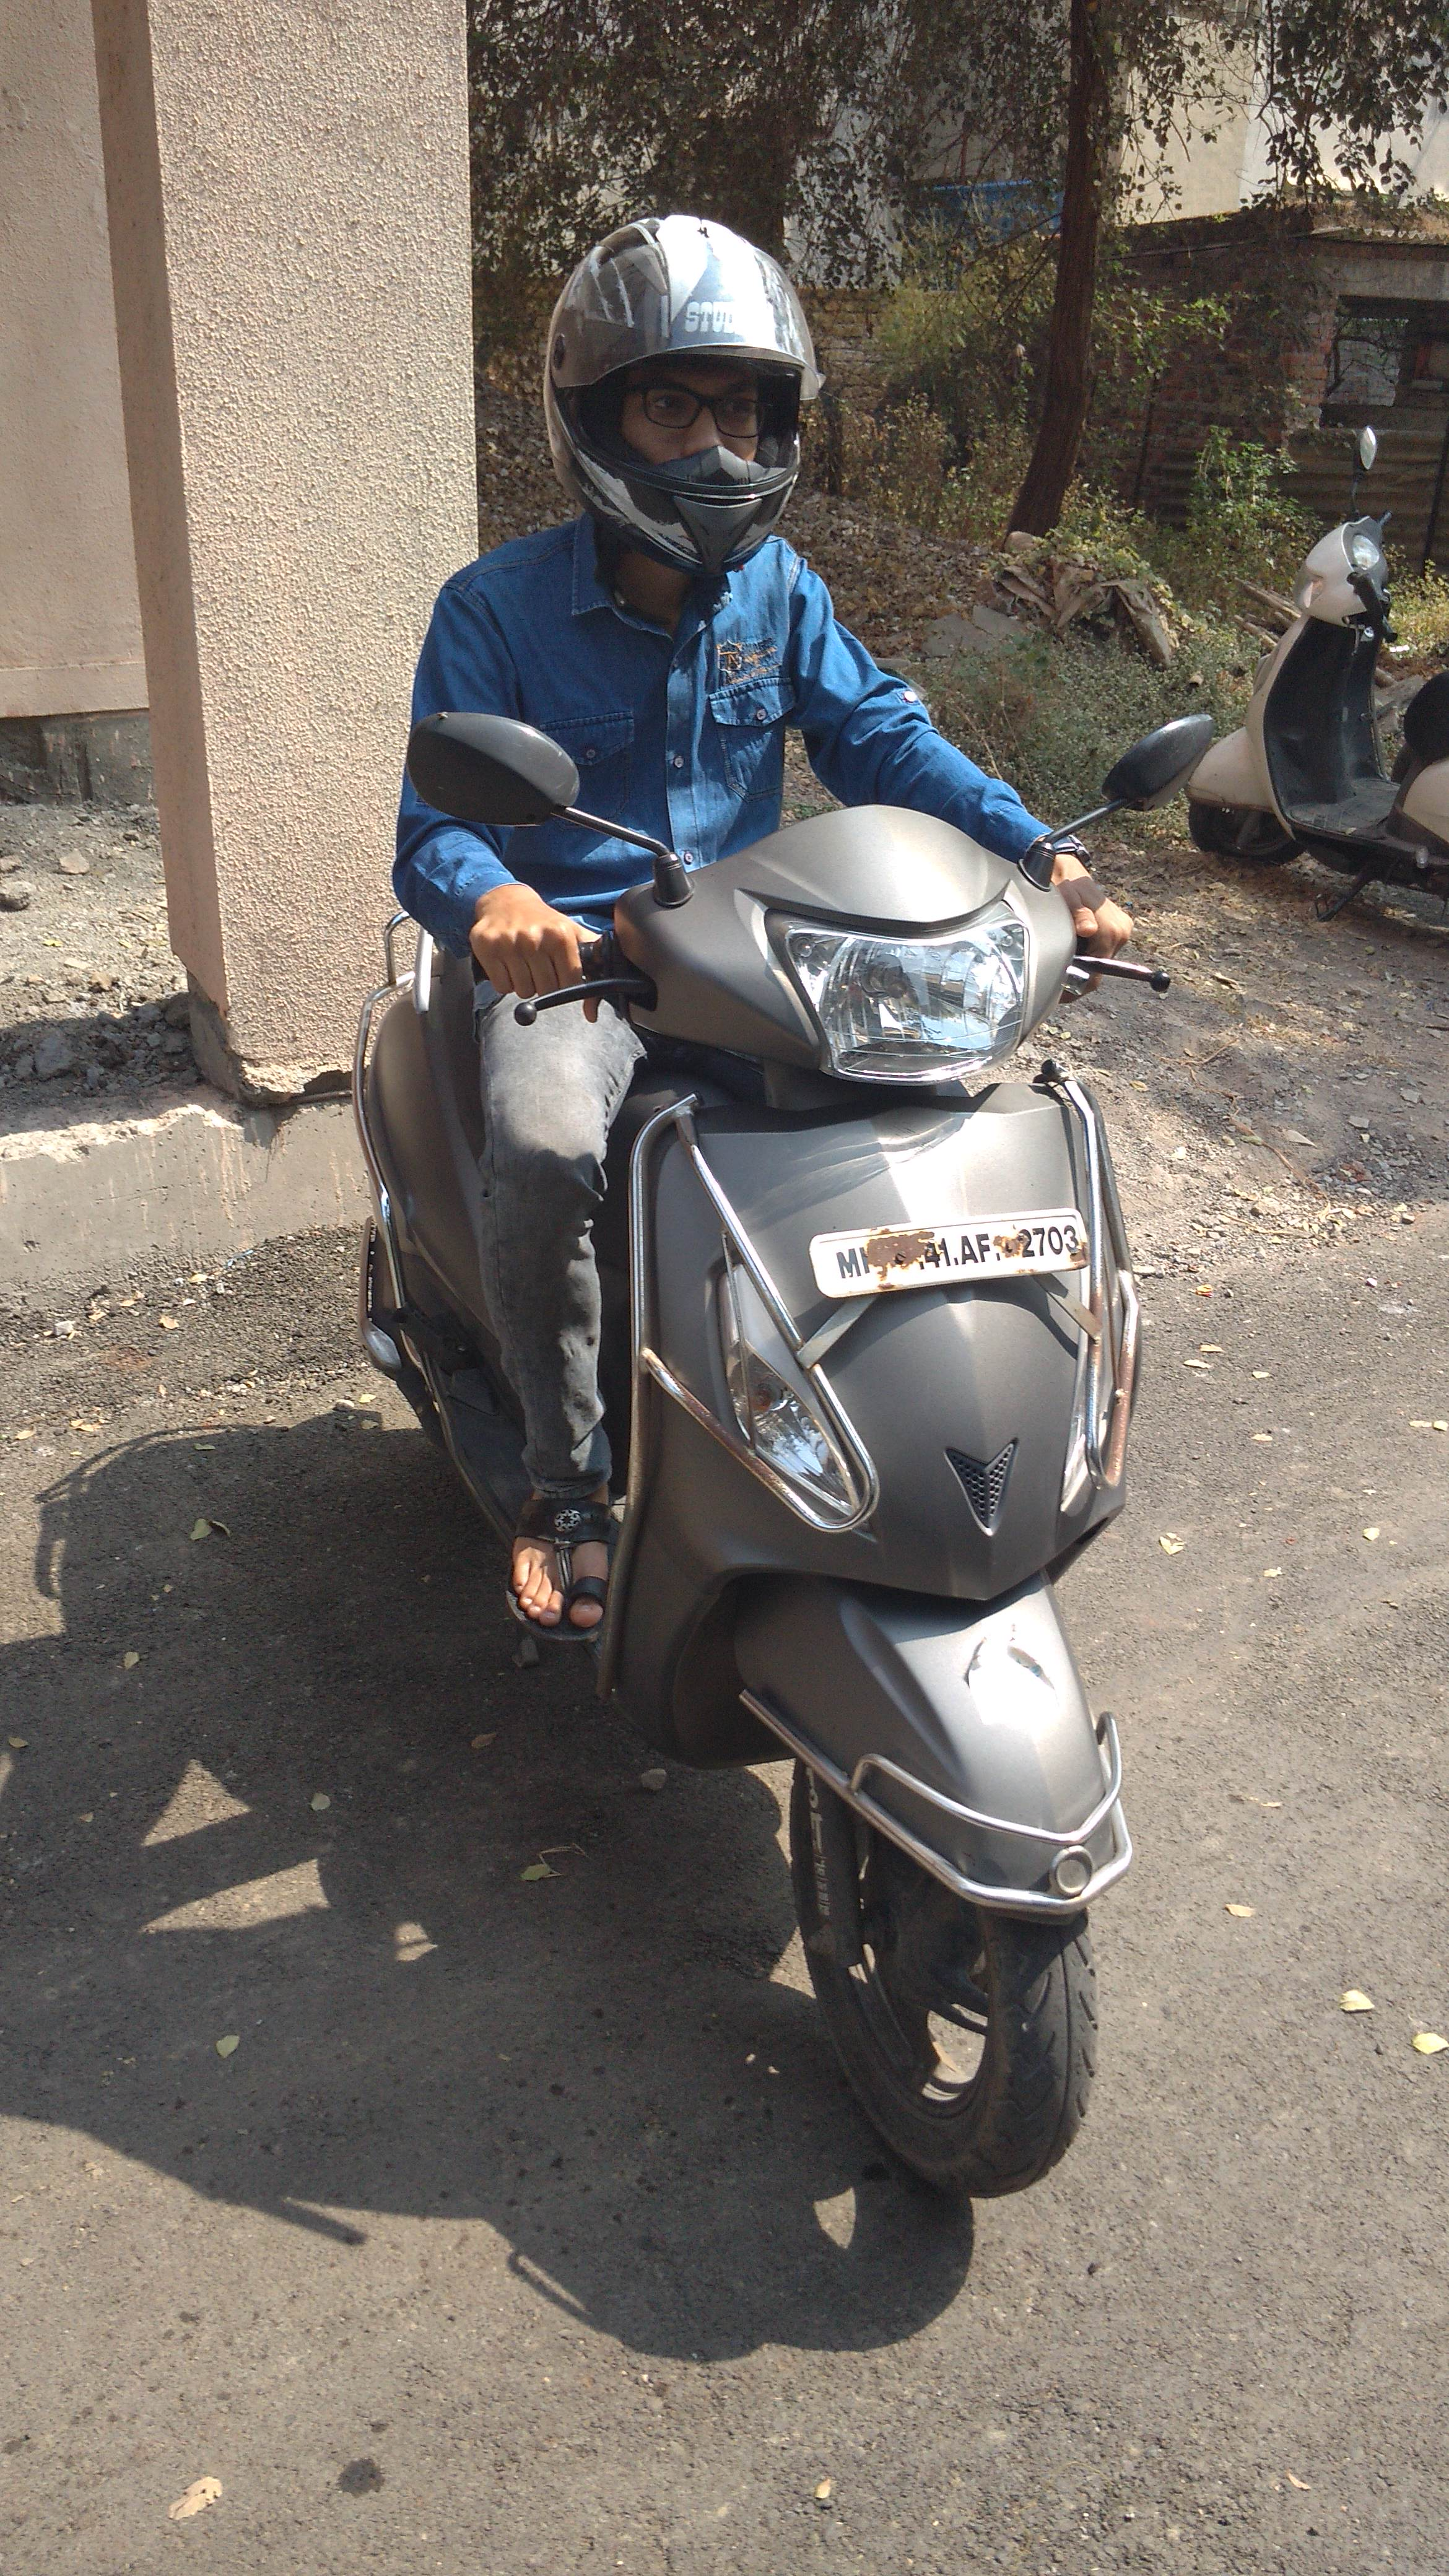helmet: (295, 202, 1389, 2127)
